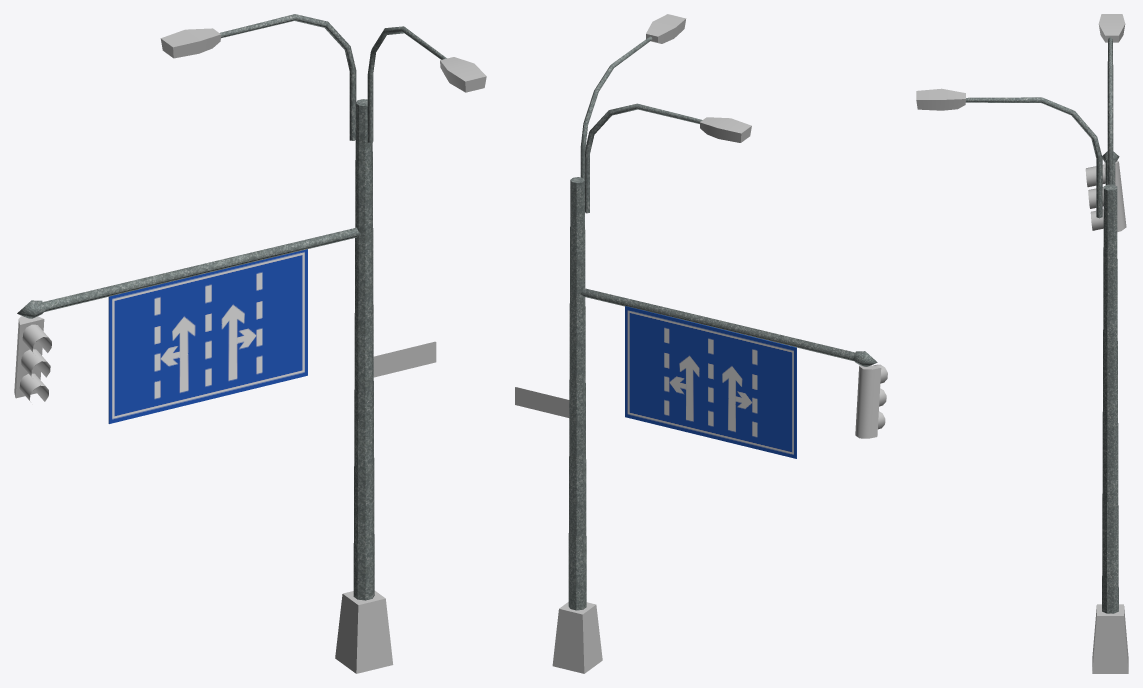
File: prp_trafficLight_001.fbx
3 views of the same model, side by side, from view 1: azimuth 30°, elevation 25°; view 2: azimuth 150°, elevation 25°; view 3: azimuth 270°, elevation 25° (orthographic). The views are drawn at different scales.
Visible parts, largest first — view 1: prp_trafficLight_001_geo, prp_trafficLight_001_pPlane_geo; view 2: prp_trafficLight_001_geo, prp_trafficLight_001_pPlane_geo; view 3: prp_trafficLight_001_geo.
Part boxes in pixels (x1,y1,x2,y2): prp_trafficLight_001_geo: (14,14,486,673); prp_trafficLight_001_pPlane_geo: (108,249,307,423); prp_trafficLight_001_geo: (515,14,887,673); prp_trafficLight_001_pPlane_geo: (625,306,796,458); prp_trafficLight_001_geo: (916,14,1128,673).
Size of the model in its own units: 685 by 1041 by 351.
